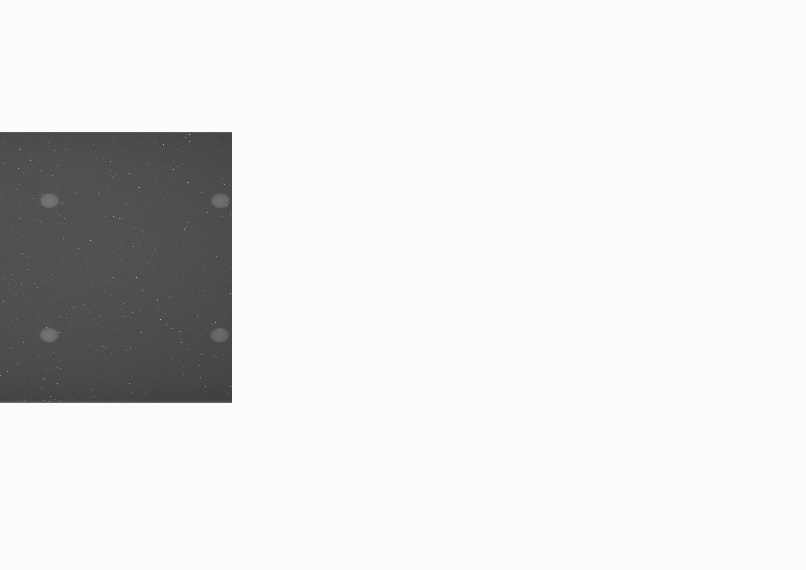bubble: (40, 192, 58, 207), (211, 193, 229, 208), (210, 327, 227, 342), (40, 327, 57, 342)
